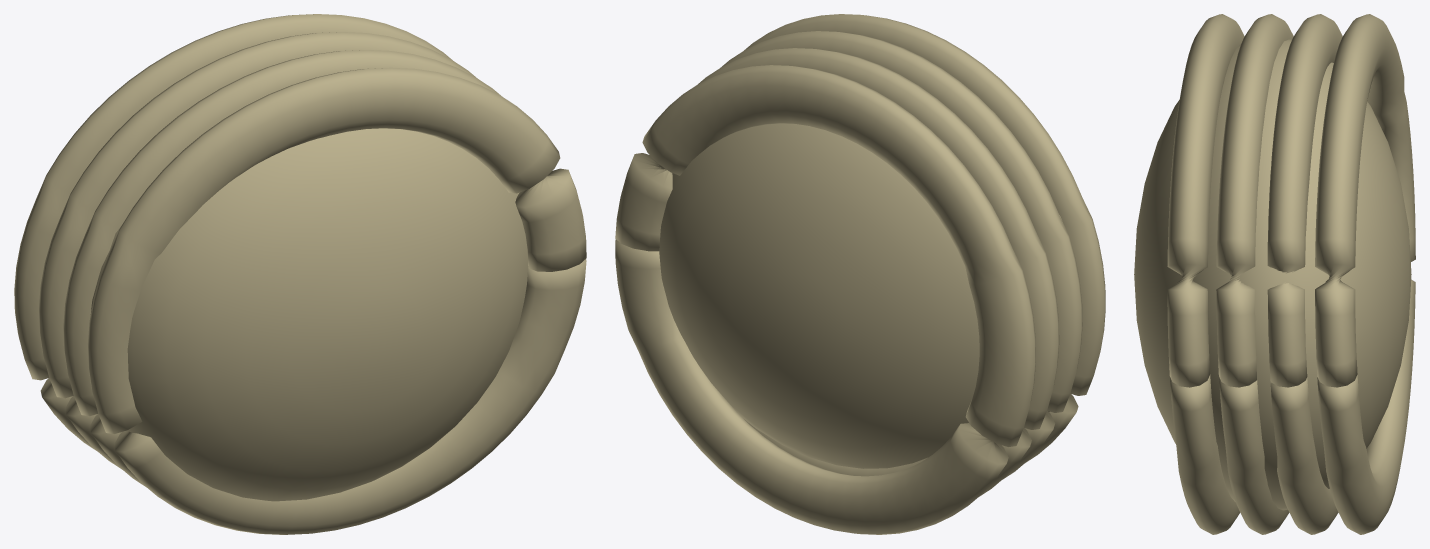
File: SM_PilgrimStudyV1_Headwrap.obj
3 views of the same model, side by side, from view 1: azimuth 30°, elevation 25°; view 2: azimuth 150°, elevation 25°; view 3: azimuth 270°, elevation 25° (orthographic). The views are drawn at different scales.
Parts seen in each view (by area): view 1: HeadwrapCrown, WrappedBand3, WrappedBand0, WrappedBand1, WrappedBand2; view 2: HeadwrapCrown, WrappedBand0, WrappedBand1, WrappedBand2, WrappedBand3; view 3: HeadwrapCrown, WrappedBand0, WrappedBand3, WrappedBand1, WrappedBand2.
Part boxes in pixels (x1,y1,x2,y2): HeadwrapCrown: (90, 128, 528, 501); WrappedBand3: (87, 67, 586, 534); WrappedBand0: (14, 14, 451, 451); WrappedBand1: (39, 32, 477, 469); WrappedBand2: (63, 50, 500, 486); HeadwrapCrown: (659, 123, 1061, 468); WrappedBand0: (615, 65, 1035, 534); WrappedBand1: (698, 48, 1059, 496); WrappedBand2: (720, 31, 1082, 479); WrappedBand3: (744, 14, 1105, 462); HeadwrapCrown: (1134, 39, 1411, 510); WrappedBand0: (1315, 14, 1415, 534); WrappedBand3: (1167, 14, 1244, 534); WrappedBand1: (1267, 14, 1342, 534); WrappedBand2: (1216, 14, 1293, 534).
Bounding box in the file's own units: 18.78 × 17.88 × 9.75.
